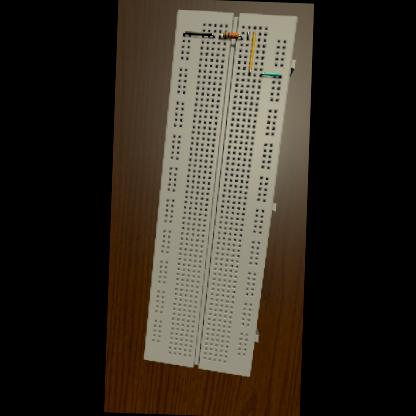breadboard: (142, 9, 297, 378)
resistor: (222, 32, 238, 40)
wire: (247, 31, 254, 76), (182, 31, 214, 38), (259, 72, 280, 78), (246, 32, 248, 41), (218, 34, 222, 38), (237, 36, 240, 40)
